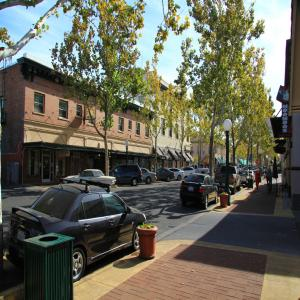Vehicle-registration-plate: (188, 188, 194, 192)
